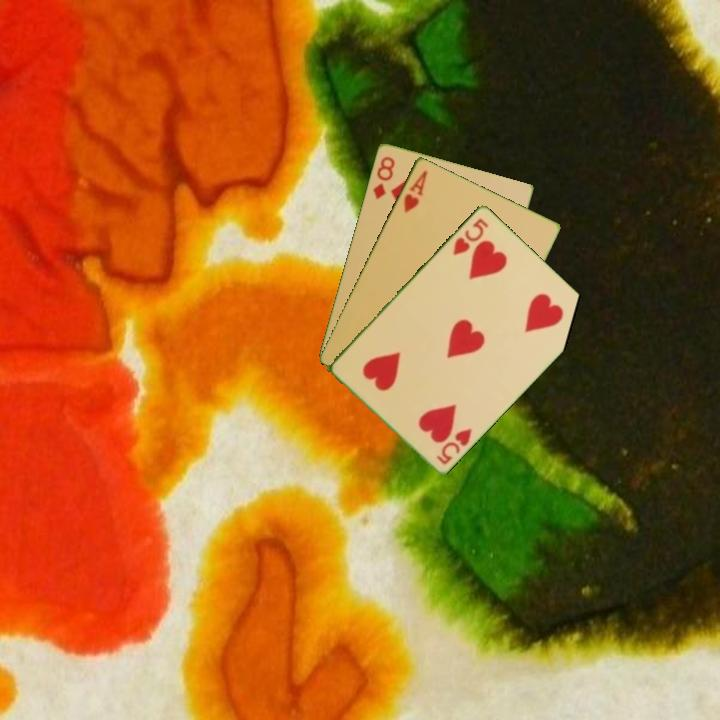5h: (449, 214, 492, 258), (433, 424, 475, 467)
8d: (369, 152, 398, 202)
Ah: (400, 166, 430, 216)
